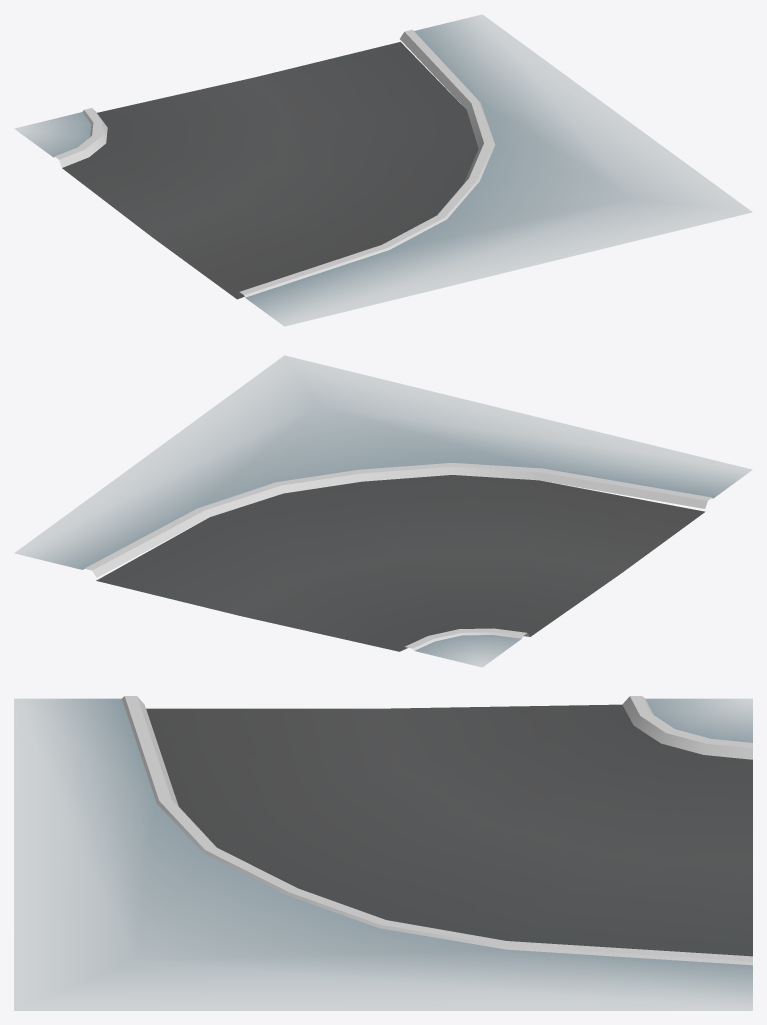
The model's file is BRoad04.fbx.
3 views of the same model, one above another, from view 1: azimuth 30°, elevation 25°; view 2: azimuth 150°, elevation 25°; view 3: azimuth 270°, elevation 25° (orthographic). The views are drawn at different scales.
Parts seen in each view (by area): view 1: BRoad04; view 2: BRoad04; view 3: BRoad04.
Part boxes in pixels (box(x1,y1,x2,y2)): BRoad04: box(14, 14, 752, 326); BRoad04: box(14, 355, 752, 667); BRoad04: box(14, 696, 752, 1010).
Size of the model in its own units: 3 by 0.0566 by 3.
